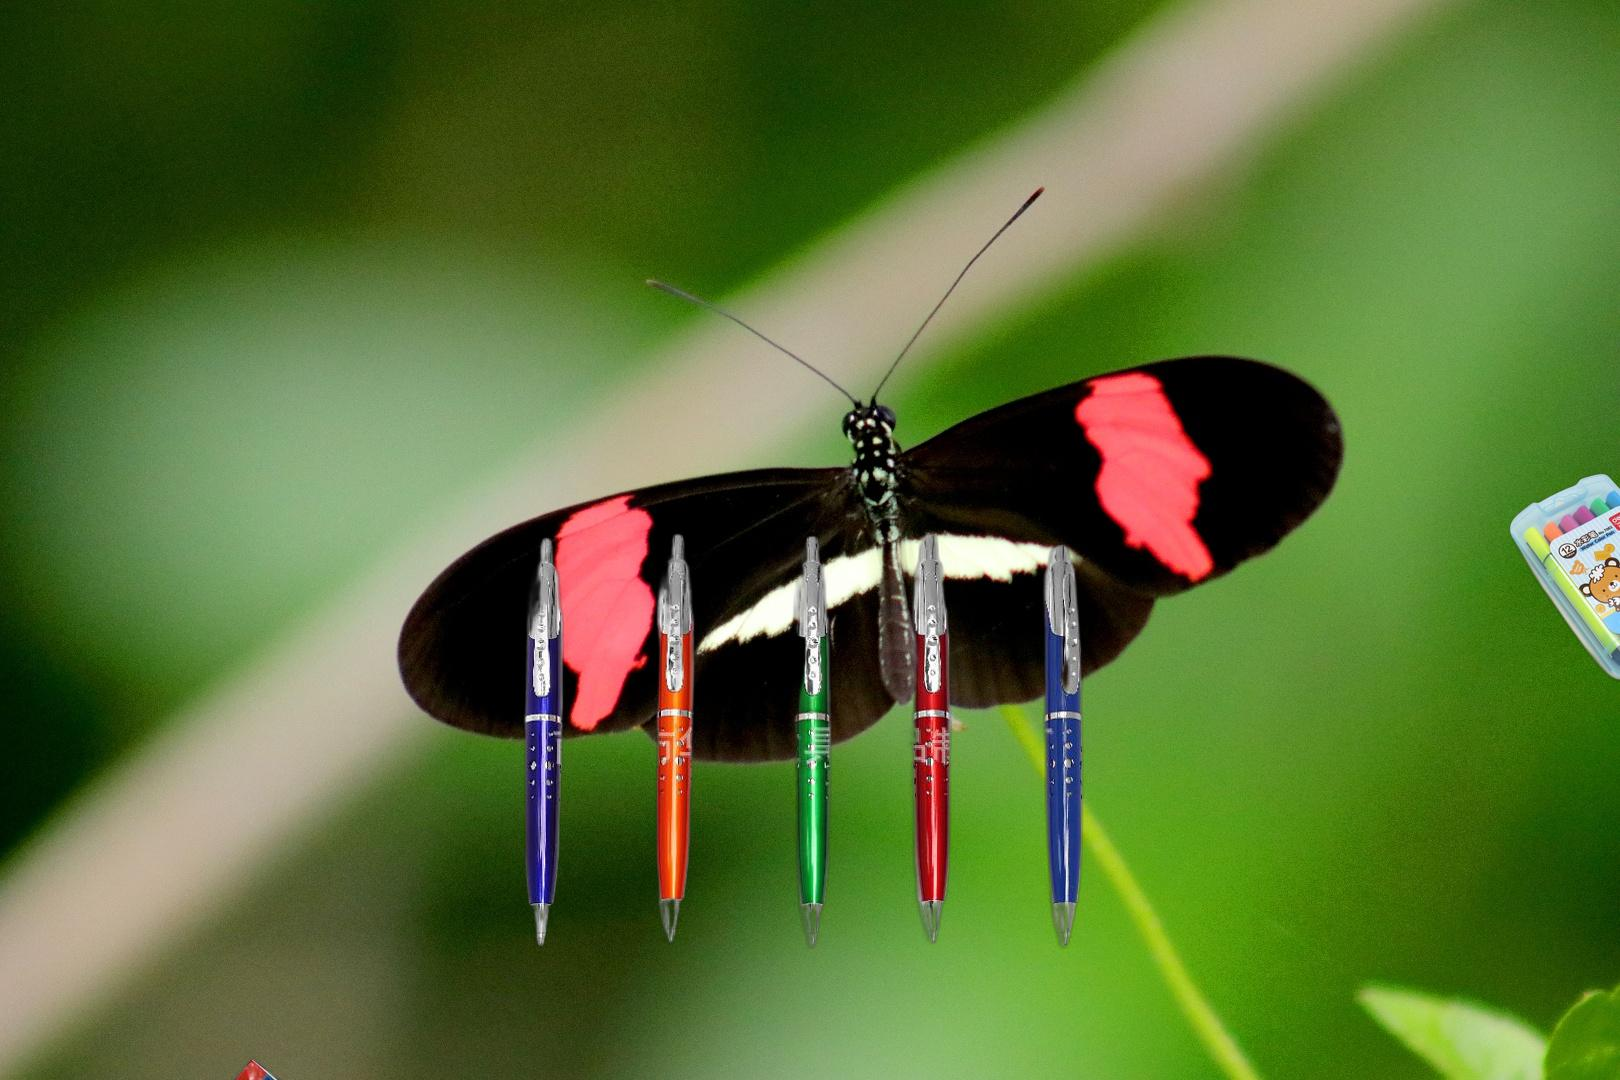paper: (163, 1055, 470, 1080)
penholder: (503, 529, 1103, 949), (1505, 472, 1620, 685)
